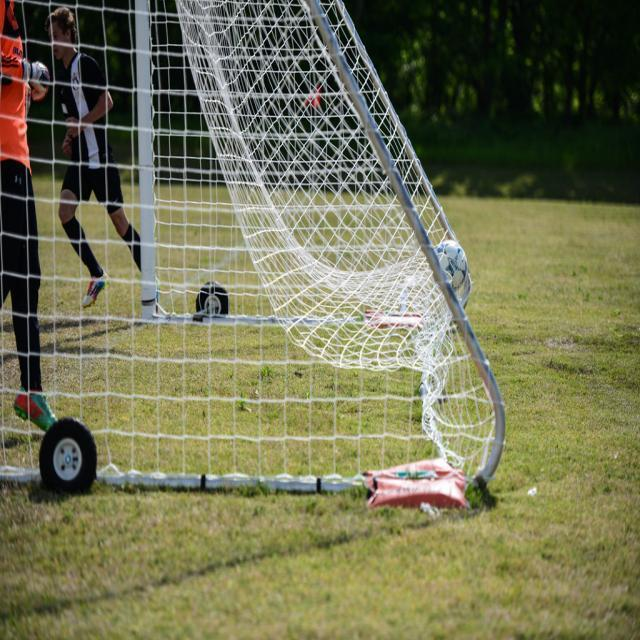ball: (437, 239, 466, 300)
